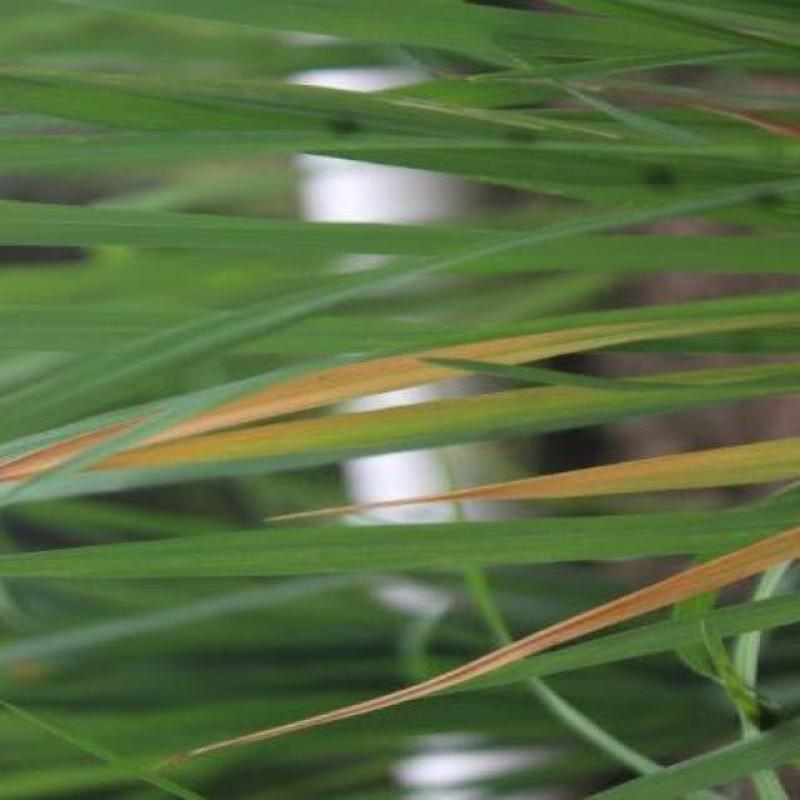Rice Tungro: (228, 320, 633, 398), (374, 452, 798, 518), (434, 572, 658, 688)
